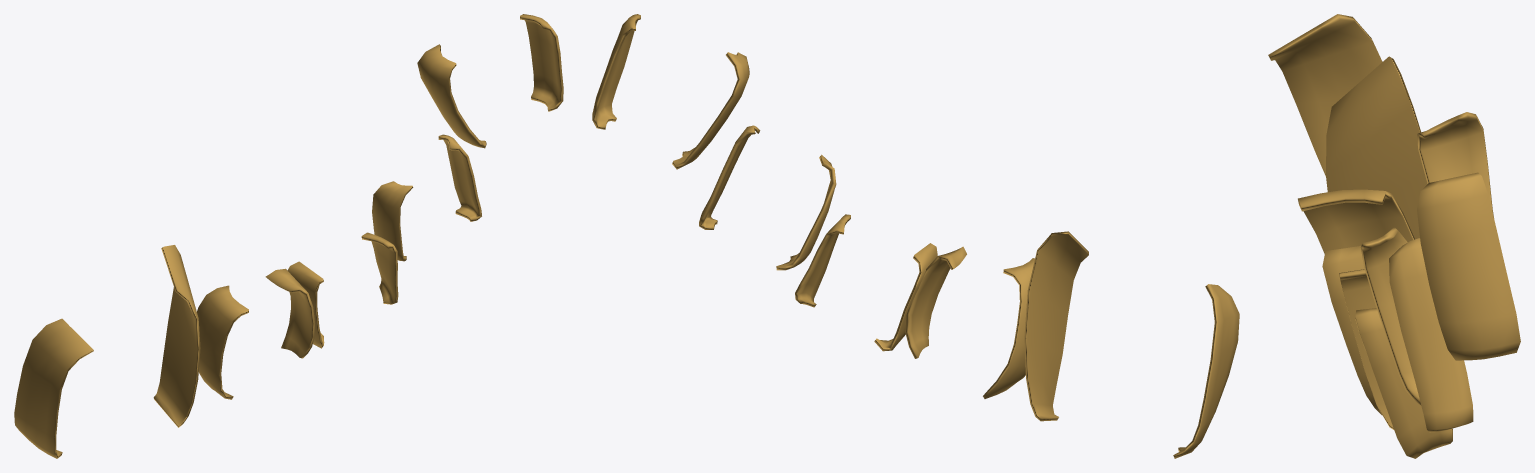
The picture shows the model from 3 angles, left to right: view 1: azimuth 30°, elevation 25°; view 2: azimuth 150°, elevation 25°; view 3: azimuth 270°, elevation 25°; orthographic projection. The views are drawn at different scales.
Visible parts, largest first — view 1: 左侧跖趾关节侧副韧带; view 2: 左侧跖趾关节侧副韧带; view 3: 左侧跖趾关节侧副韧带.
Part boxes in pixels (x1=…): 左侧跖趾关节侧副韧带: x1=14, y1=14, x2=563, y2=458; 左侧跖趾关节侧副韧带: x1=592, y1=14, x2=1239, y2=458; 左侧跖趾关节侧副韧带: x1=1268, y1=14, x2=1520, y2=458.
Size of the model in its own units: 0.121 by 0.0625 by 0.0278.
